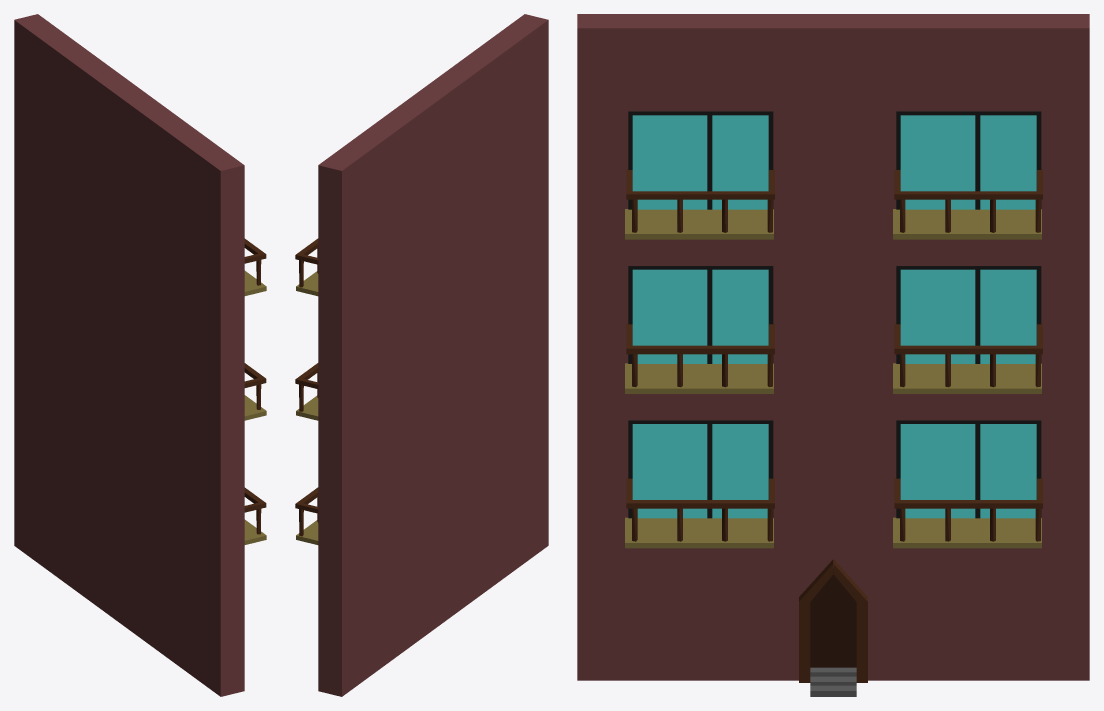
File: building1.fbx
3 renders of one model, left to right at view 1: azimuth 30°, elevation 25°; view 2: azimuth 150°, elevation 25°; view 3: azimuth 270°, elevation 25°, orthographic. The views are drawn at different scales.
Visible parts, largest first — view 1: Cube.002; view 2: Cube.002; view 3: Cube.002.
Part boxes in pixels (x1,y1,x2,y2): Cube.002: (14, 14, 266, 696); Cube.002: (295, 14, 548, 696); Cube.002: (577, 14, 1089, 696).
Size of the model in its own units: 314 by 2418 by 1722.
